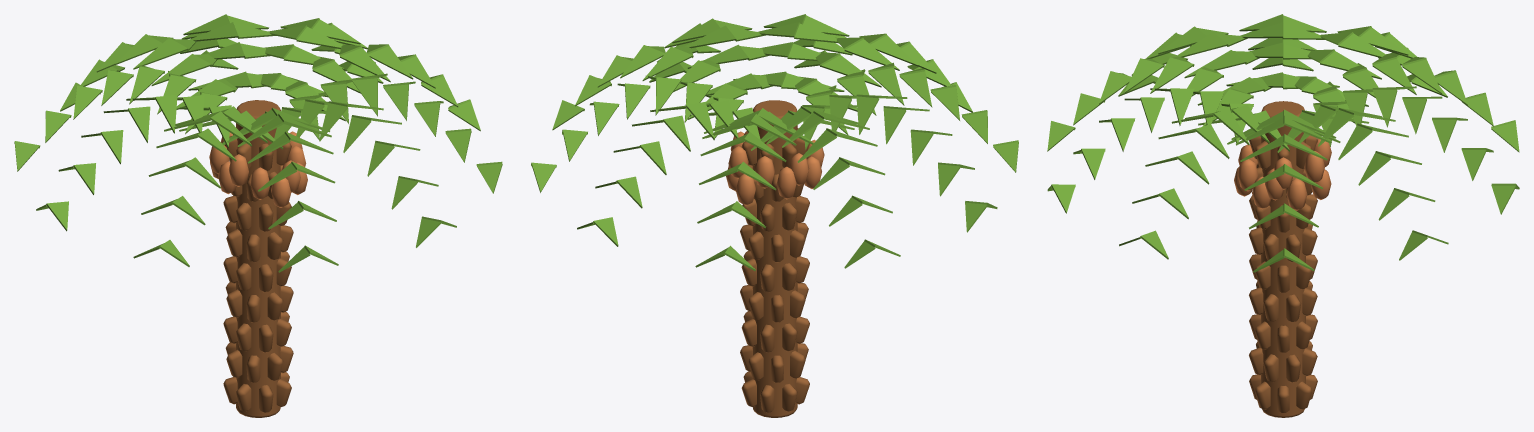
File: NJD-17.glb
The picture shows the model from 3 angles, left to right: view 1: azimuth 30°, elevation 25°; view 2: azimuth 150°, elevation 25°; view 3: azimuth 270°, elevation 25°; orthographic projection.
Parts seen in each view (by area): view 1: trunk, pointed leaflet.045, pointed leaflet.047, pointed leaflet.004, pointed leaflet.061, pointed leaflet.006, pointed leaflet.049, pointed leaflet.063, pointed leaflet.002, pointed leaflet.130, pointed leaflet.132, pointed leaflet.018 (+16 smaller); view 2: trunk, pointed leaflet.005, pointed leaflet.102, pointed leaflet.088, pointed leaflet.007, pointed leaflet.003, pointed leaflet.100, pointed leaflet.090, pointed leaflet.019, pointed leaflet.104, pointed leaflet.131, pointed leaflet.021 (+15 smaller); view 3: trunk, pointed leaflet.103, pointed leaflet.046, pointed leaflet.105, pointed leaflet.048, pointed leaflet.089, pointed leaflet.087, pointed leaflet.060, pointed leaflet.117, pointed leaflet.032, date cluster.008, pointed leaflet.034 (+21 smaller).
Boxes of the visible parts, bbox=[...] form: trunk: bbox=[236, 100, 280, 417]; pointed leaflet.045: bbox=[151, 54, 211, 85]; pointed leaflet.047: bbox=[133, 38, 188, 69]; pointed leaflet.004: bbox=[340, 48, 390, 82]; pointed leaflet.061: bbox=[129, 66, 164, 104]; pointed leaflet.006: bbox=[368, 46, 413, 79]; pointed leaflet.049: bbox=[115, 34, 162, 64]; pointed leaflet.063: bbox=[101, 70, 133, 105]; pointed leaflet.002: bbox=[312, 61, 360, 93]; pointed leaflet.130: bbox=[352, 78, 377, 116]; pointed leaflet.132: bbox=[383, 84, 408, 120]; pointed leaflet.018: bbox=[296, 26, 342, 49]; trunk: bbox=[752, 100, 797, 417]; pointed leaflet.005: bbox=[642, 46, 693, 80]; pointed leaflet.102: bbox=[844, 39, 899, 70]; pointed leaflet.088: bbox=[868, 68, 904, 105]; pointed leaflet.007: bbox=[620, 45, 664, 78]; pointed leaflet.003: bbox=[673, 60, 720, 92]; pointed leaflet.100: bbox=[821, 55, 881, 87]; pointed leaflet.090: bbox=[899, 71, 932, 107]; pointed leaflet.019: bbox=[655, 77, 681, 115]; pointed leaflet.104: bbox=[870, 35, 917, 66]; pointed leaflet.131: bbox=[685, 25, 736, 48]; pointed leaflet.021: bbox=[624, 83, 650, 119]; trunk: bbox=[1261, 101, 1305, 417]; pointed leaflet.103: bbox=[1150, 57, 1194, 93]; pointed leaflet.046: bbox=[1372, 58, 1416, 94]; pointed leaflet.105: bbox=[1124, 58, 1164, 93]; pointed leaflet.048: bbox=[1402, 59, 1442, 94]; pointed leaflet.089: bbox=[1175, 32, 1228, 57]; pointed leaflet.087: bbox=[1184, 50, 1246, 78]; pointed leaflet.060: bbox=[1338, 33, 1385, 57]; pointed leaflet.117: bbox=[1170, 88, 1194, 125]; pointed leaflet.032: bbox=[1373, 89, 1397, 127]; date cluster.008: bbox=[1286, 178, 1307, 210]; pointed leaflet.034: bbox=[1402, 98, 1426, 134].
Size of the model in its own units: 3.24 by 2.47 by 3.13.
